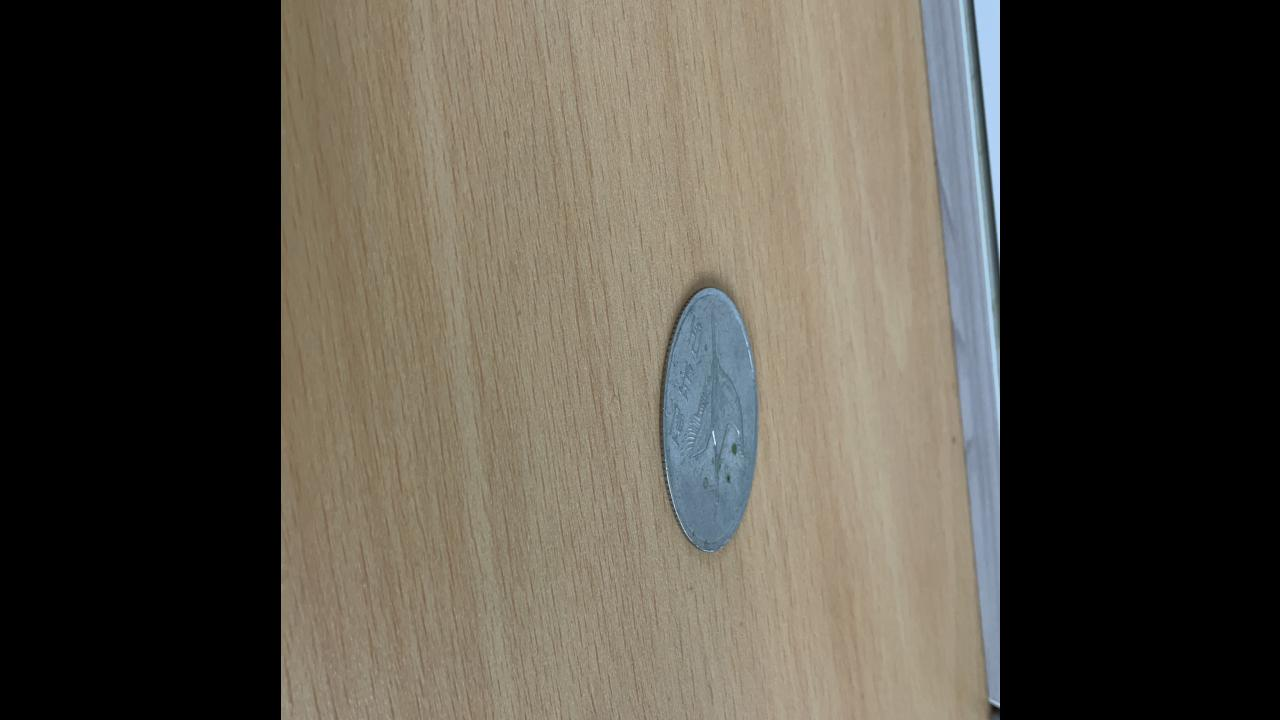coin: (659, 284, 759, 558)
